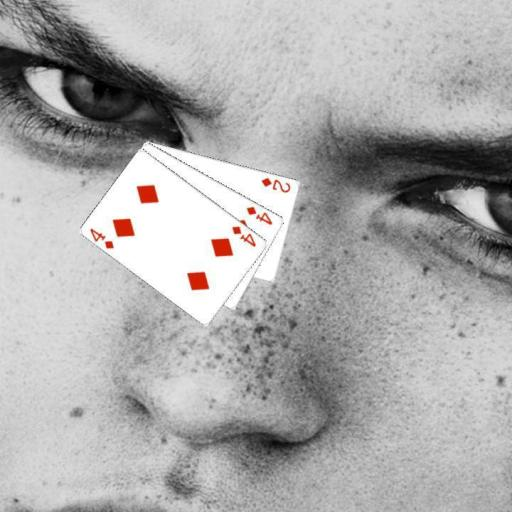card-corner: (243, 203, 275, 226), (229, 223, 258, 248), (87, 225, 116, 250), (258, 174, 292, 194)
